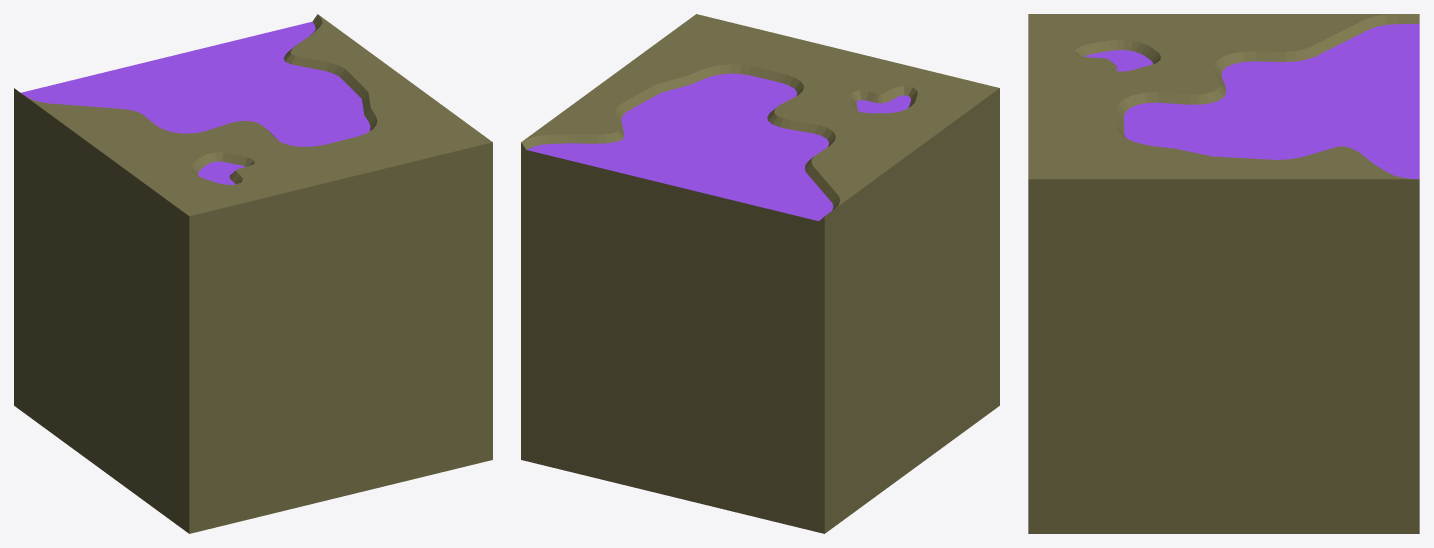
File: tile_toxic_2a_03.fbx
The picture shows the model from 3 angles, left to right: view 1: azimuth 30°, elevation 25°; view 2: azimuth 150°, elevation 25°; view 3: azimuth 270°, elevation 25°; orthographic projection. The views are drawn at different scales.
Parts seen in each view (by area): view 1: tile_toxic_2a_03; view 2: tile_toxic_2a_03; view 3: tile_toxic_2a_03.
Part boxes in pixels (x1,y1,x2,y2): tile_toxic_2a_03: (14, 14, 492, 533); tile_toxic_2a_03: (521, 14, 999, 533); tile_toxic_2a_03: (1028, 14, 1419, 533).
Size of the model in its own units: 100 by 100 by 100.
